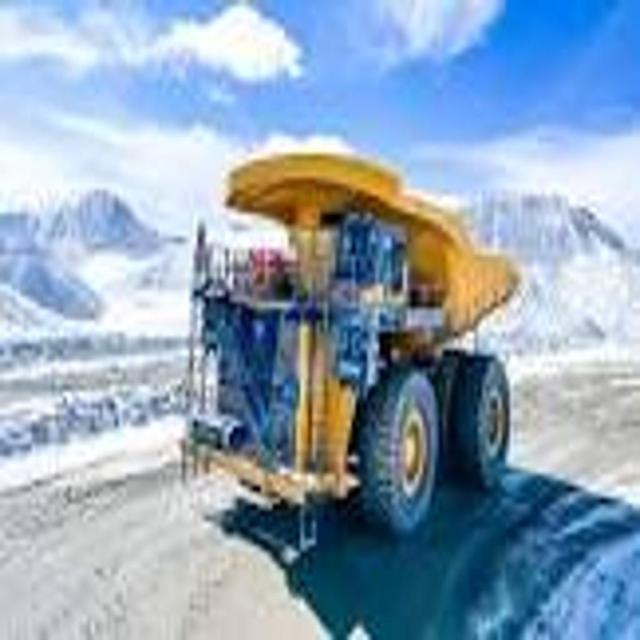dump_truck: (183, 123, 528, 530)
